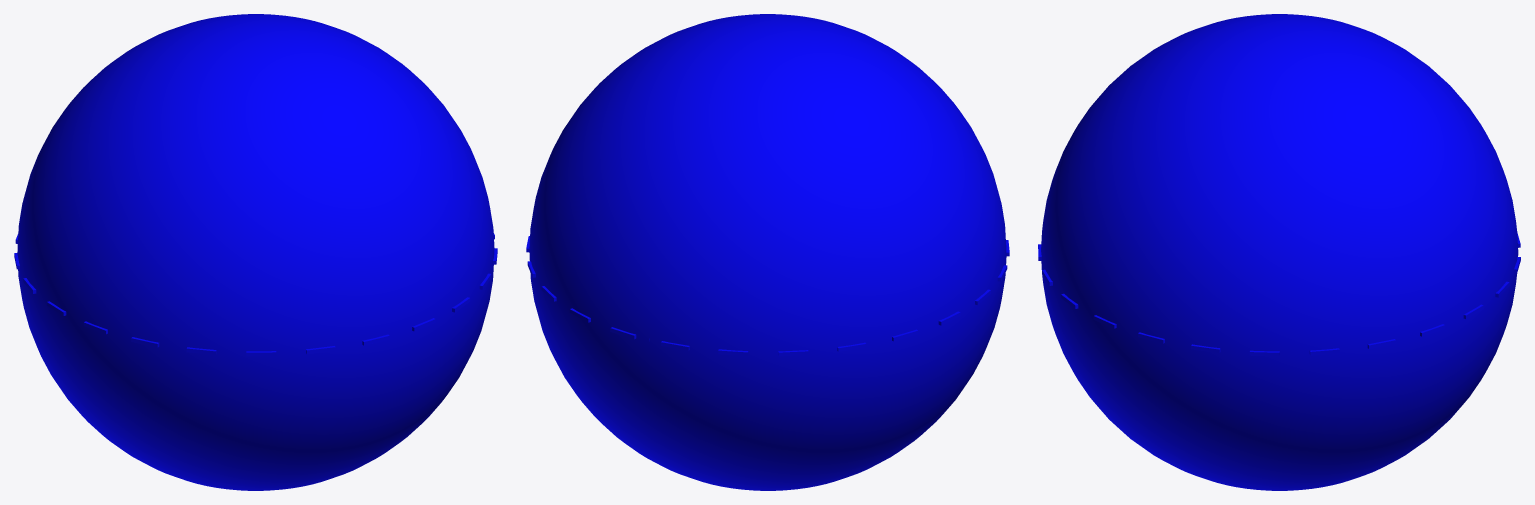
3 views of the same model, side by side, from view 1: azimuth 30°, elevation 25°; view 2: azimuth 150°, elevation 25°; view 3: azimuth 270°, elevation 25° (orthographic).
Visible parts, largest first — view 1: Sphere006; view 2: Sphere006; view 3: Sphere006.
Part boxes in pixels (left/top/right/bottom): Sphere006: left=17, top=14, right=494, bottom=490; Sphere006: left=529, top=14, right=1006, bottom=490; Sphere006: left=1041, top=14, right=1518, bottom=490.
Size of the model in its own units: 130 by 128 by 129.
